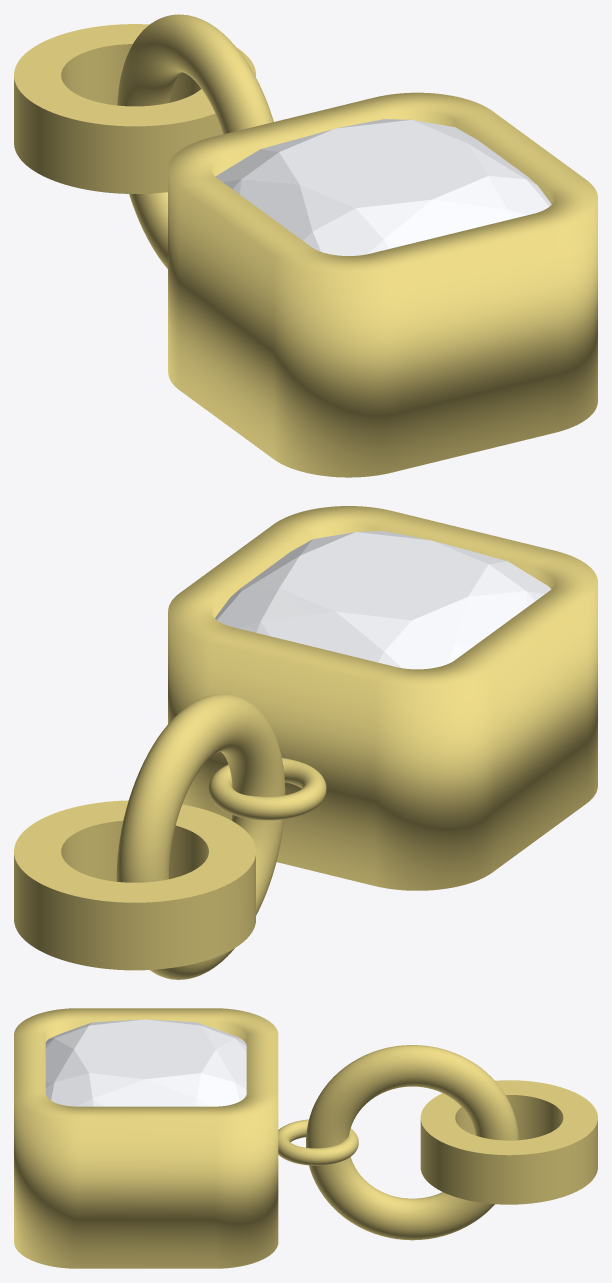
Rendered from cushion.glb.
The picture shows the model from 3 angles, top to bottom: view 1: azimuth 30°, elevation 25°; view 2: azimuth 150°, elevation 25°; view 3: azimuth 270°, elevation 25°; orthographic projection. The views are drawn at different scales.
Parts seen in each view (by area): view 1: Cube, all-diamonds.1046, Cylinder, Torus.001; view 2: Cube, Cylinder, all-diamonds.1046, Torus.001, Torus; view 3: Cube, Torus.001, Cylinder, all-diamonds.1046, Torus.
Part boxes in pixels (bbox=[...]): Cube: bbox=[168, 92, 597, 477]; all-diamonds.1046: bbox=[215, 119, 551, 255]; Cylinder: bbox=[14, 24, 255, 193]; Torus.001: bbox=[117, 14, 273, 268]; Cube: bbox=[168, 506, 597, 890]; Cylinder: bbox=[14, 800, 255, 970]; all-diamonds.1046: bbox=[215, 531, 550, 669]; Torus.001: bbox=[116, 694, 285, 979]; Torus: bbox=[208, 758, 326, 820]; Cube: bbox=[14, 1008, 278, 1268]; Torus.001: bbox=[306, 1045, 518, 1240]; Cylinder: bbox=[420, 1080, 597, 1204]; all-diamonds.1046: bbox=[45, 1019, 246, 1106]; Torus: bbox=[278, 1119, 358, 1165].
Size of the model in its own units: 2.09 by 1.69 by 4.63.
